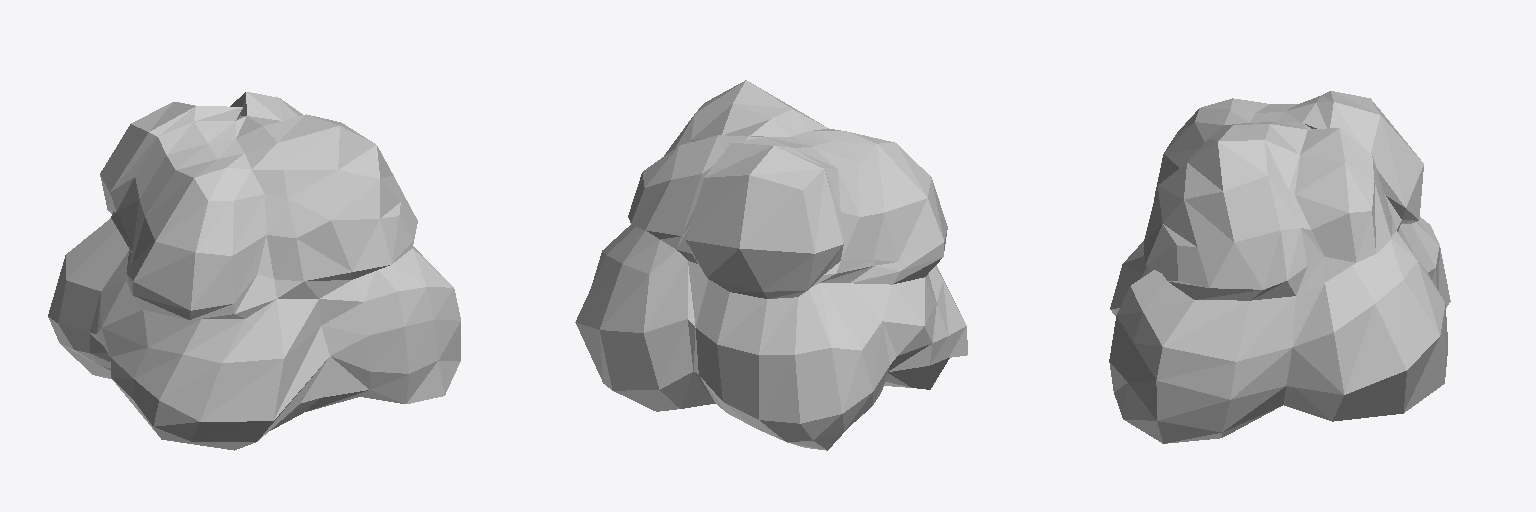
The model's file is Bush8.obj.
3 views of the same model, side by side, from view 1: azimuth 30°, elevation 25°; view 2: azimuth 150°, elevation 25°; view 3: azimuth 270°, elevation 25° (orthographic).
Visible parts, largest first — view 1: bush6; view 2: bush6; view 3: bush6.
Boxes of the visible parts, x1=… form: bush6: x1=48, y1=92, x2=460, y2=450; bush6: x1=575, y1=80, x2=967, y2=450; bush6: x1=1109, y1=91, x2=1450, y2=443.
Bounding box in the file's own units: 1.84 × 1.58 × 1.75.